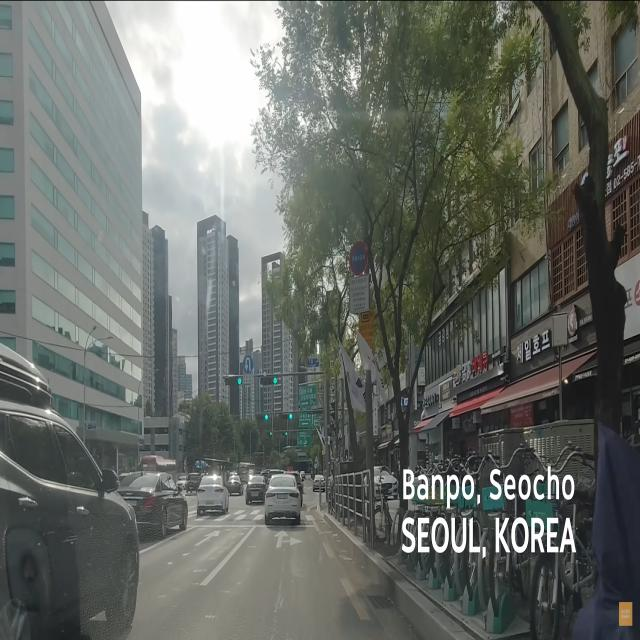forward_right: (220, 527, 338, 556), (220, 532, 340, 554)
